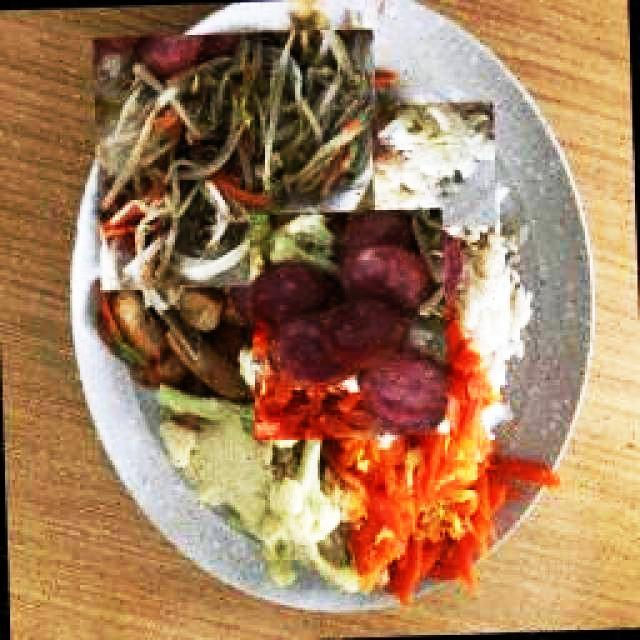carrot_eggs: (349, 439, 519, 588)
chinese_sausage: (239, 209, 453, 441)
mung_bean_sprouts: (93, 32, 374, 208)
